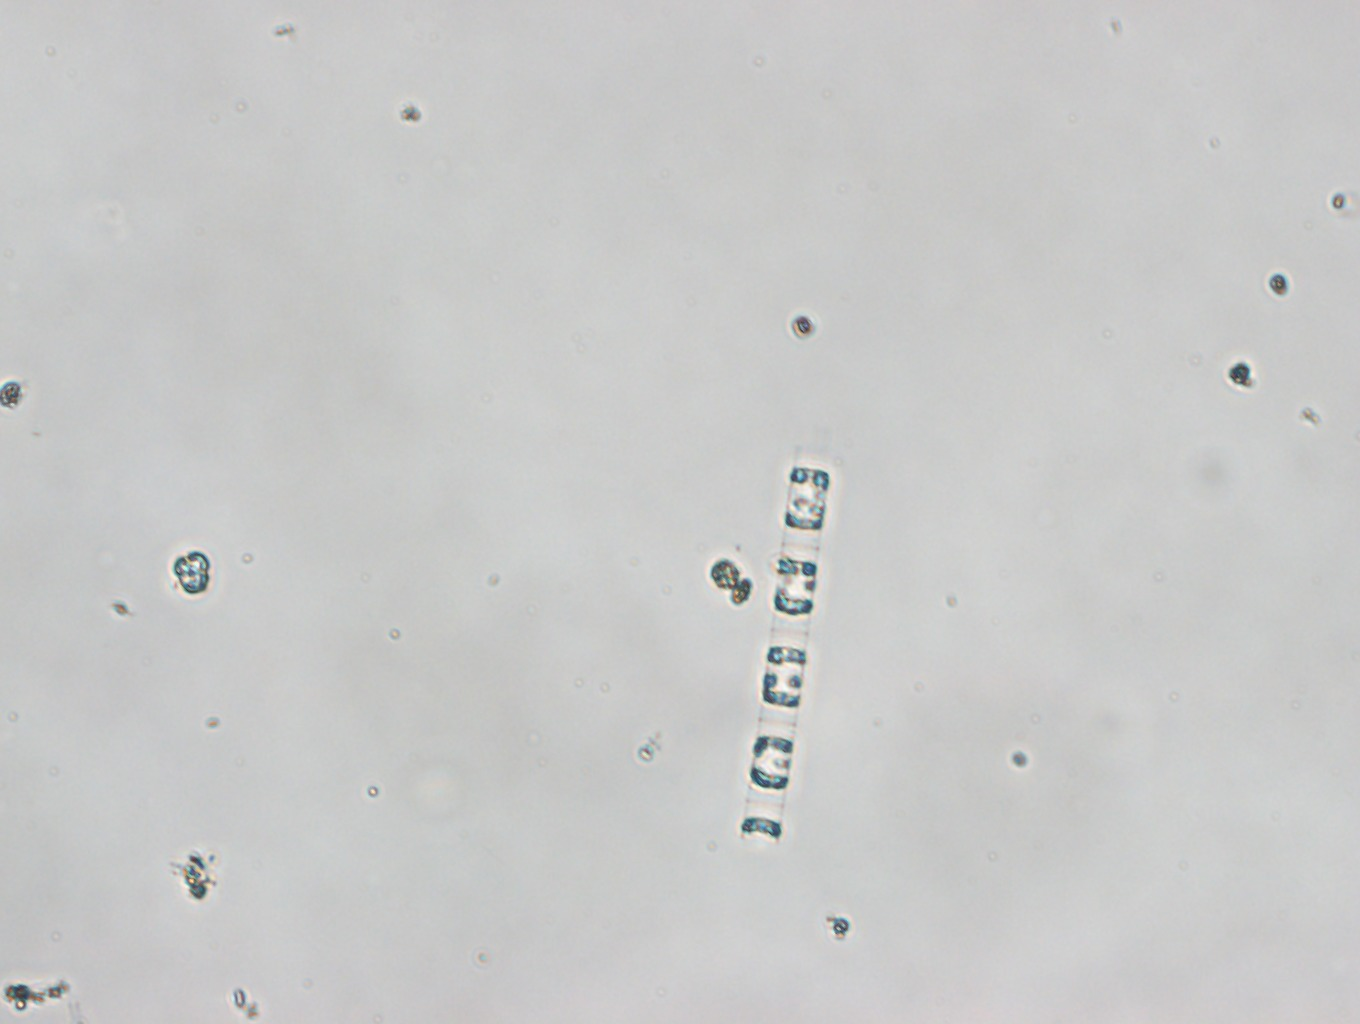skeletonema: (736, 441, 858, 857)
